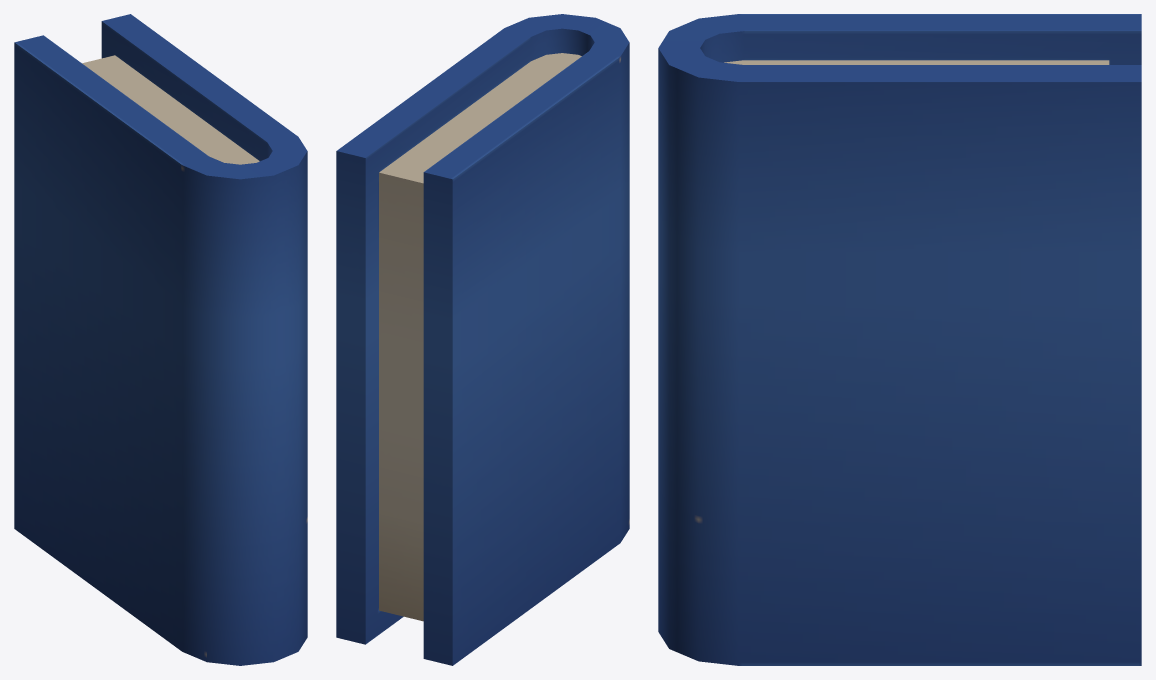
File: BookBlue.fbx
3 renders of one model, left to right at view 1: azimuth 30°, elevation 25°; view 2: azimuth 150°, elevation 25°; view 3: azimuth 270°, elevation 25°, orthographic. The views are drawn at different scales.
Parts seen in each view (by area): view 1: BookBlue; view 2: BookBlue; view 3: BookBlue.
Part boxes in pixels (<box>): BookBlue: <box>14,14,307,665</box>; BookBlue: <box>336,14,629,665</box>; BookBlue: <box>658,14,1141,665</box>.
Size of the model in its own units: 20 by 80 by 60.
